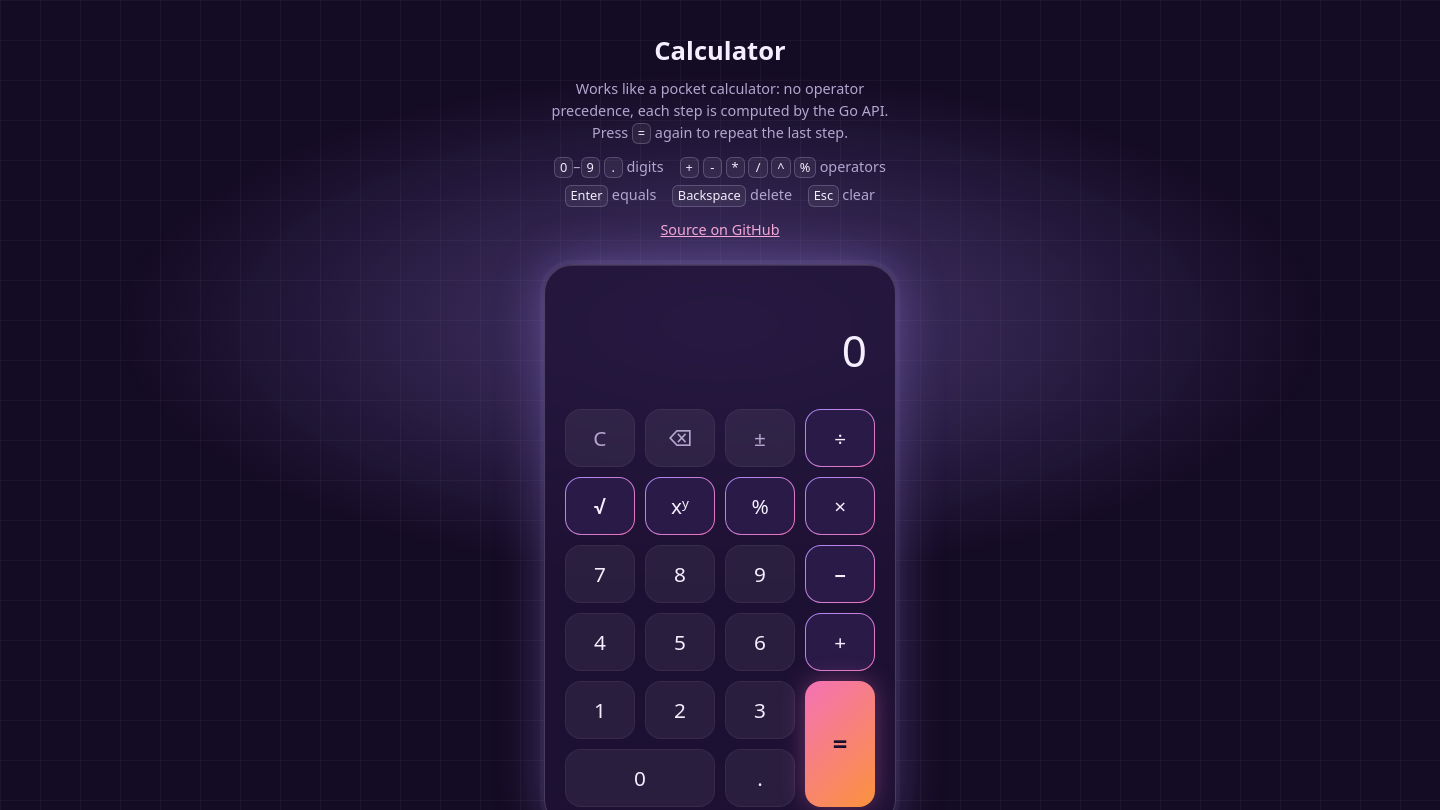
App › shows API errors on the display
Click the button "1". click: (600, 710)
box: [565,681,635,739]
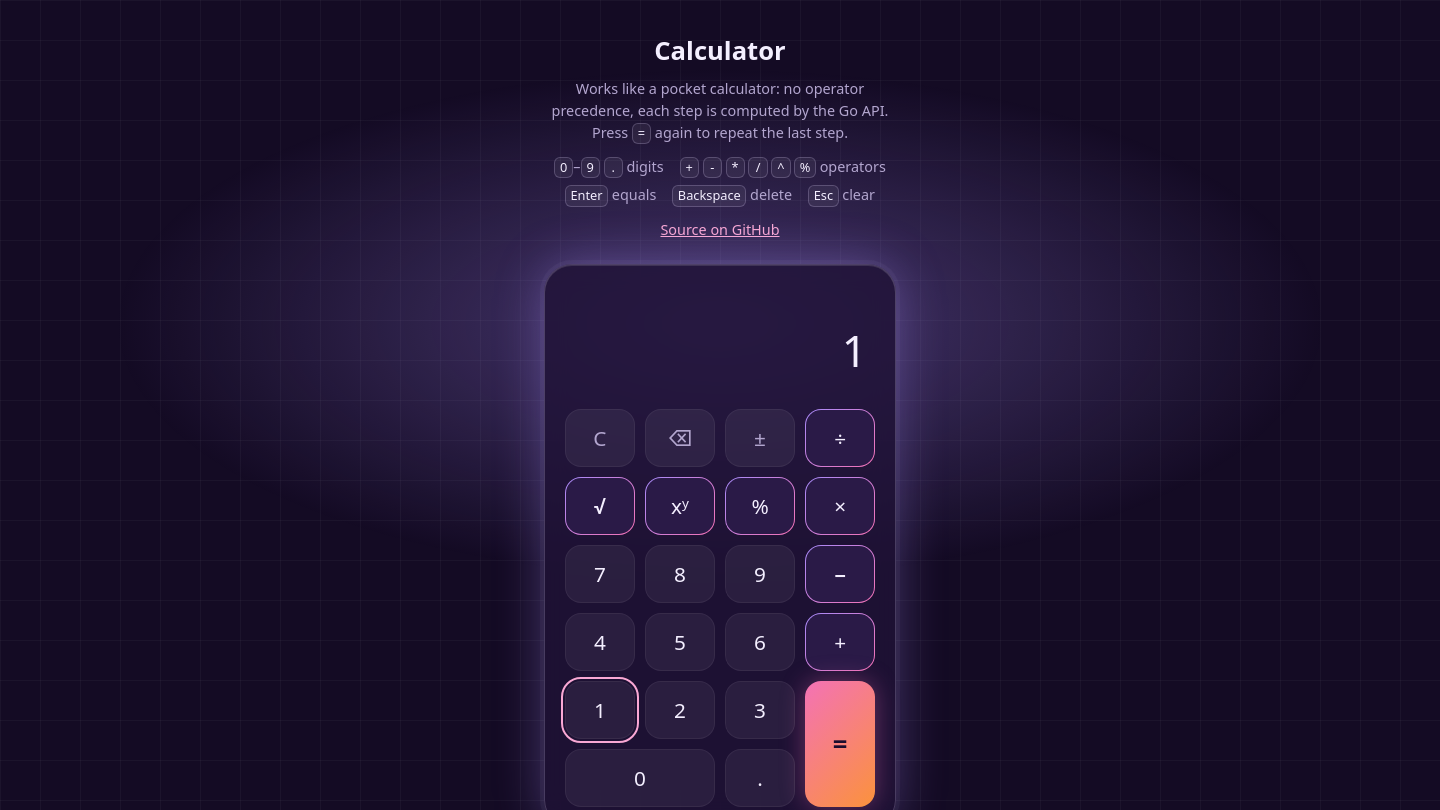
Click the button named "Divide". click: (840, 438)
box: [805,409,875,467]
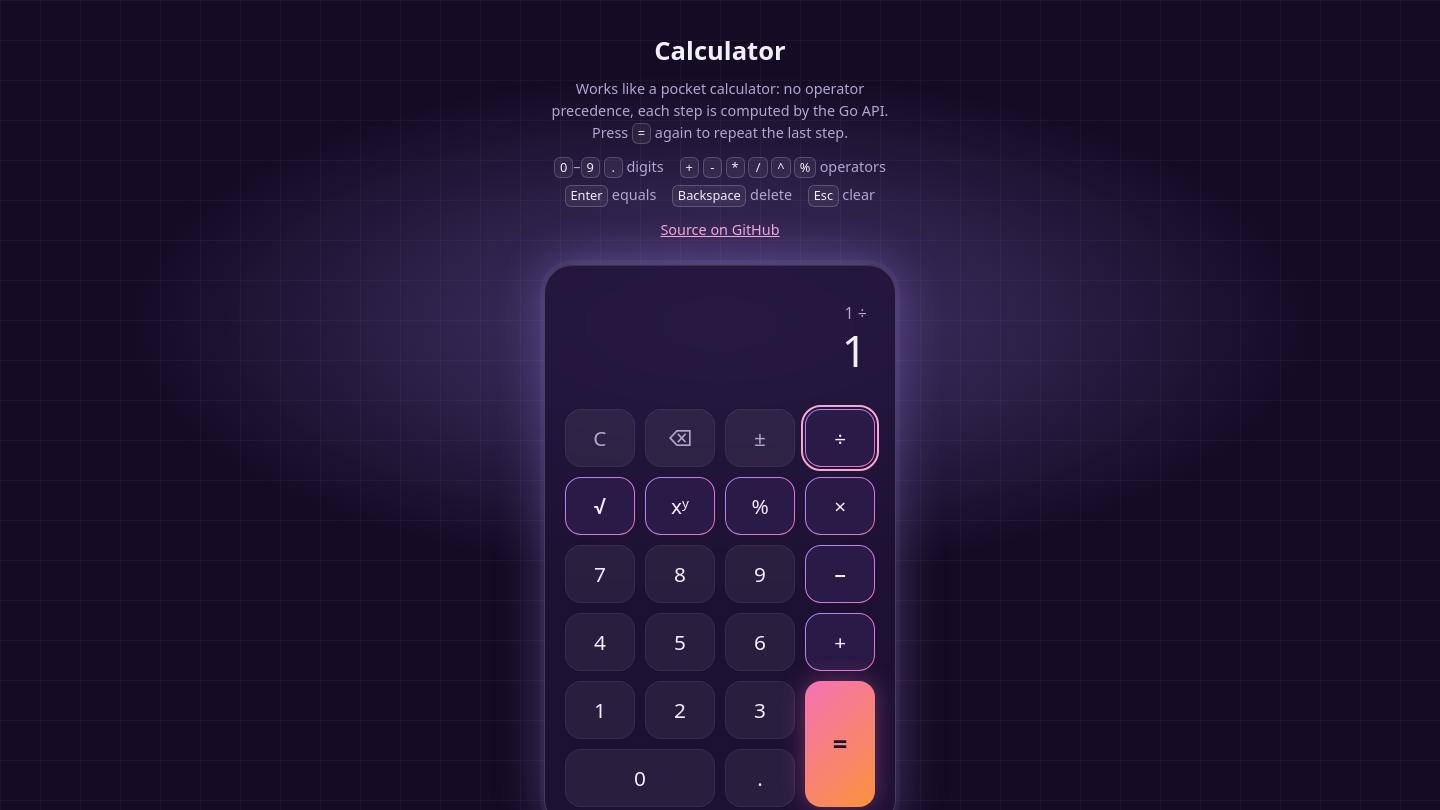
Click the button "0". click: (640, 778)
box: [565,749,715,807]
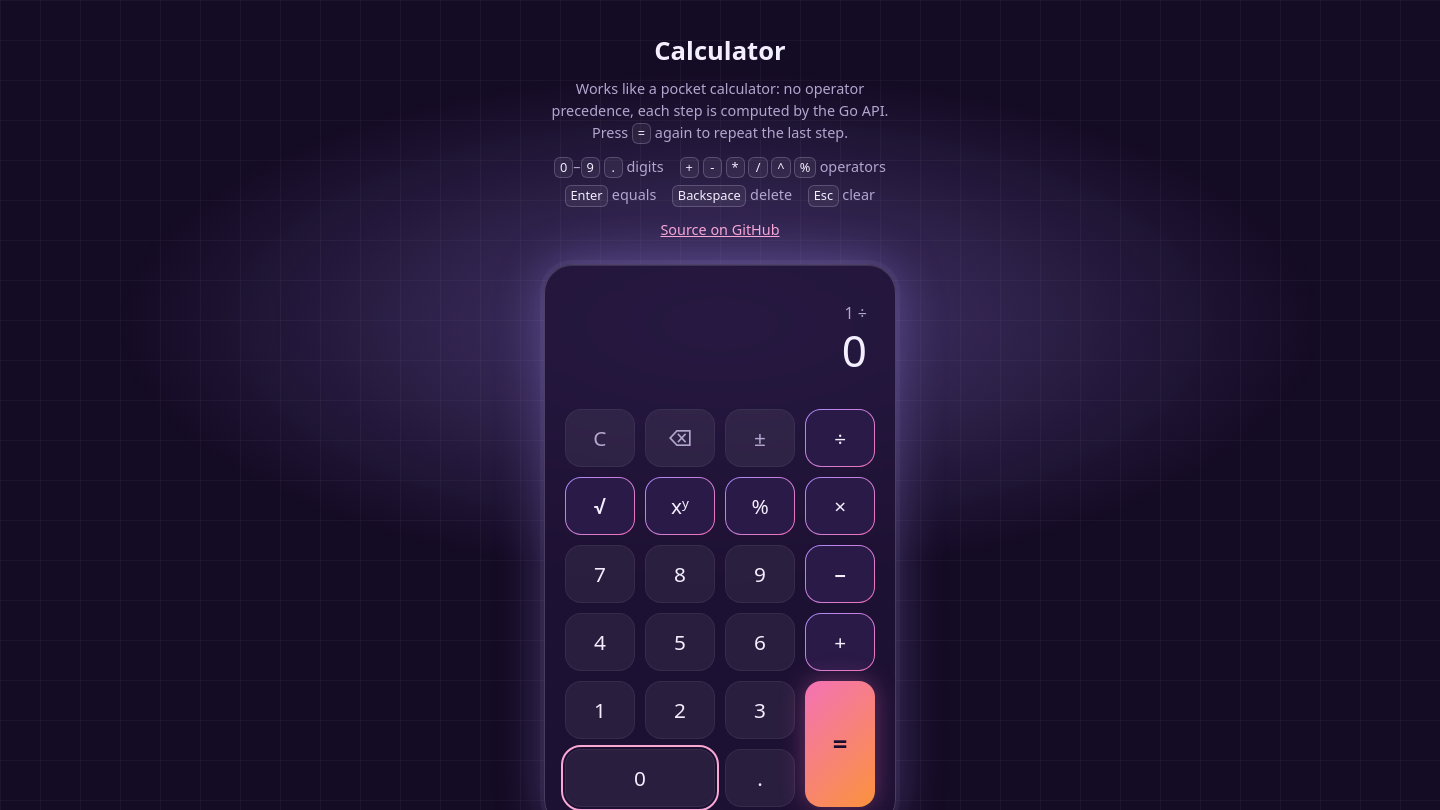
Click the button named "Equals". click: (840, 744)
box: [805,681,875,807]
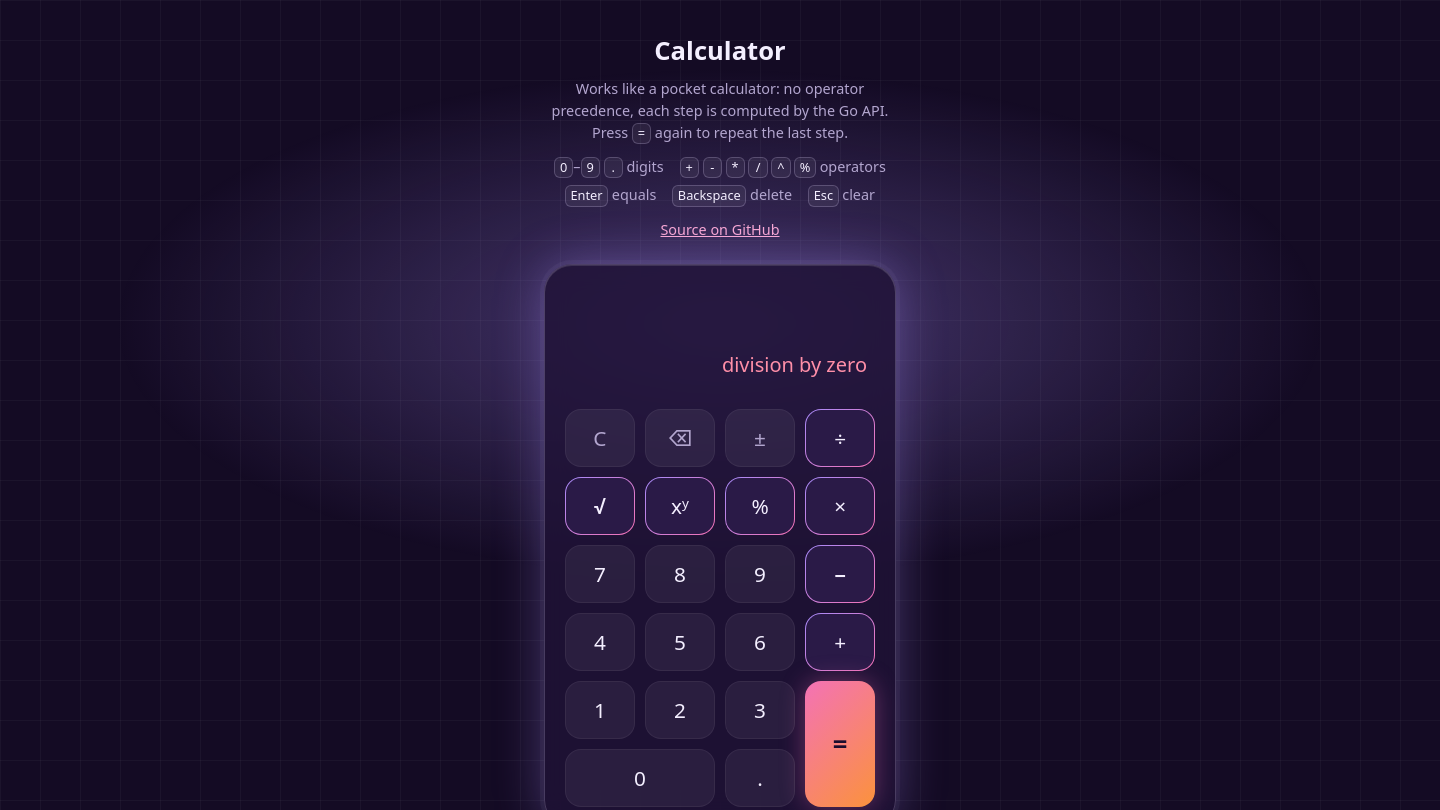
Check: the text with test id "display" reads "division by zero", box [722,351,867,378]
Click the button named "Clear". click: (600, 438)
box: [565,409,635,467]
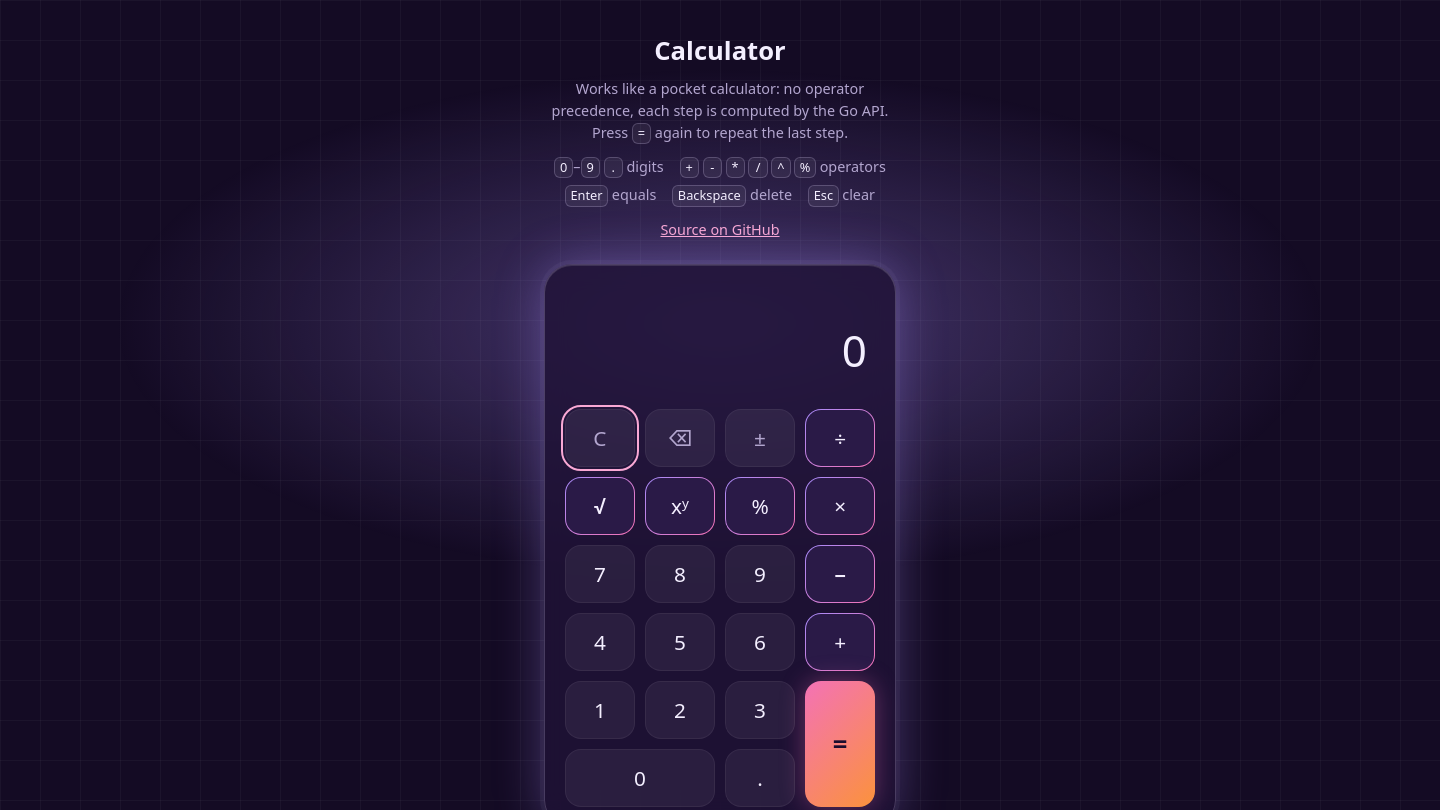
Check: the 2nd text with test id "display" reads "0", box [842,320,867,380]
